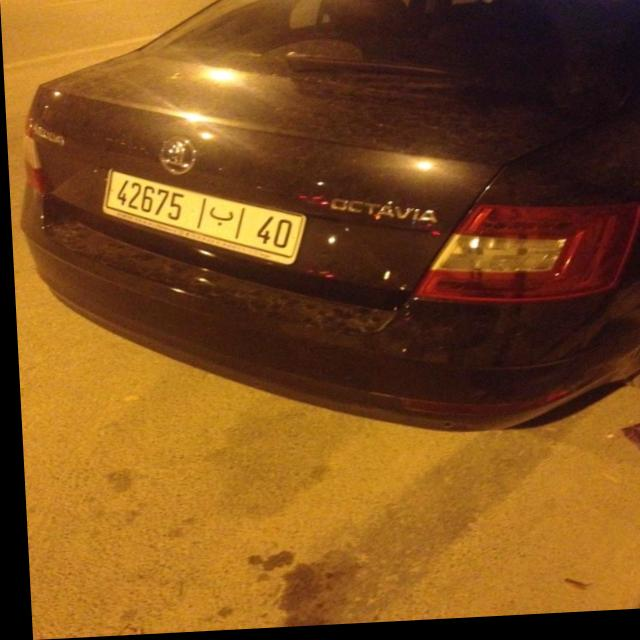License-Plate: (100, 172, 303, 267)
